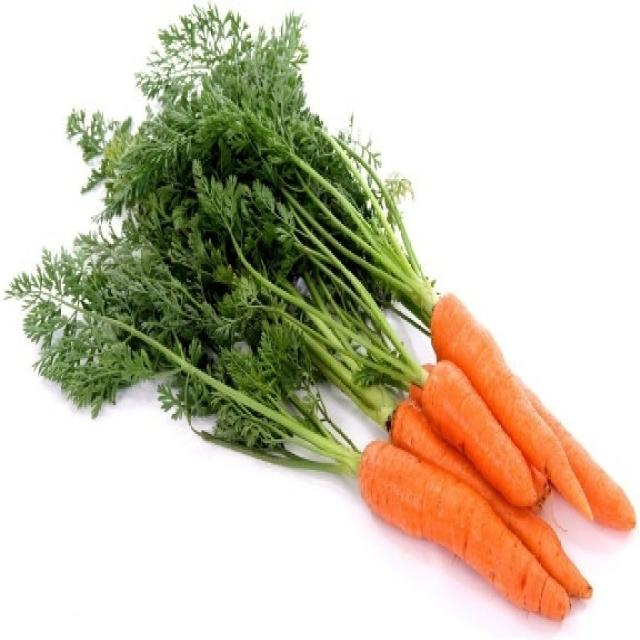Fresh_Carrot: (379, 312, 631, 640), (365, 403, 592, 625), (437, 297, 597, 529), (419, 362, 541, 501)
